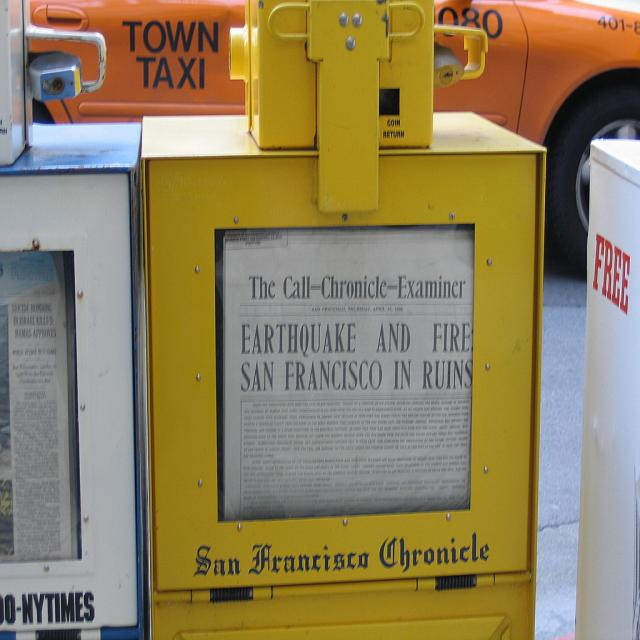no_fire: (0, 0, 629, 634)
